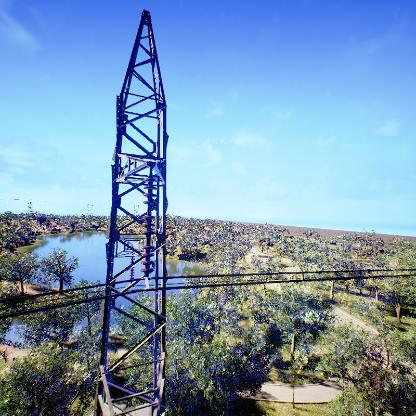insulator: (141, 173, 157, 277)
